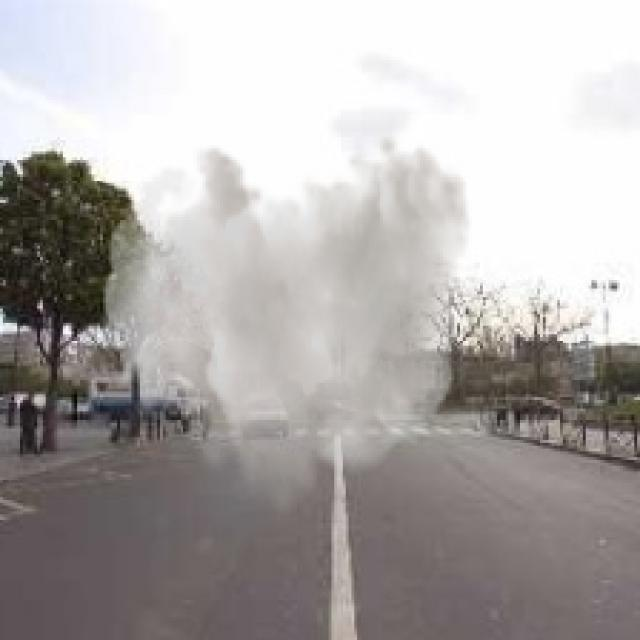Smoke: (102, 131, 472, 523)
